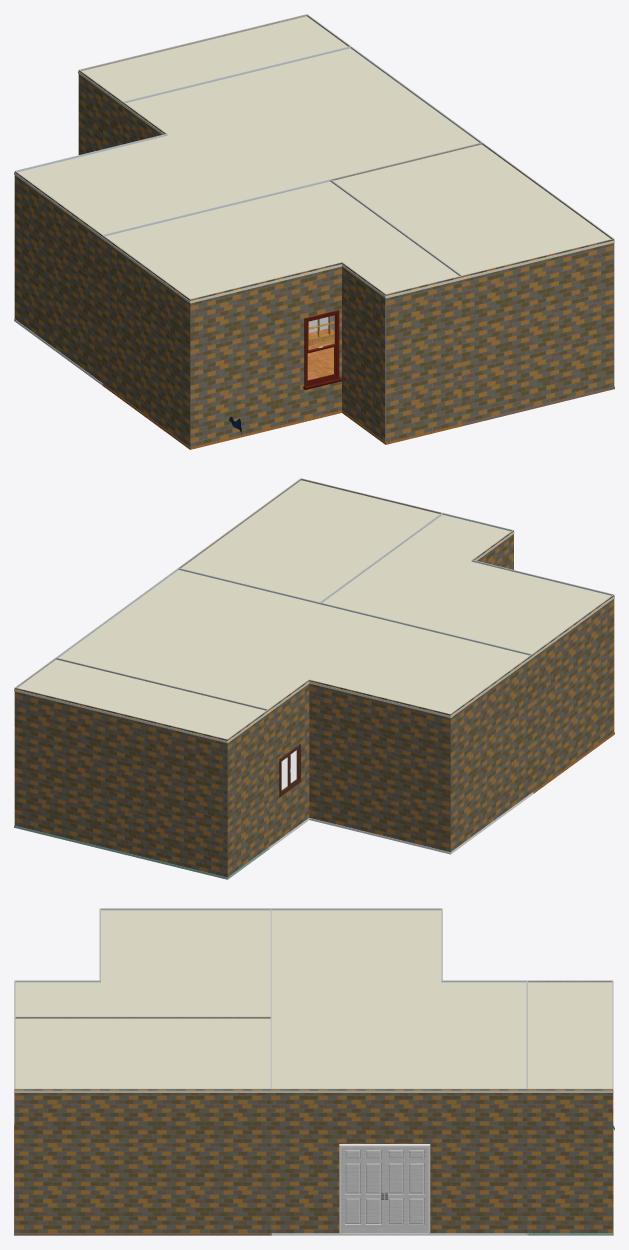
Rendered from ProcTHOR-Train-177.glb.
3 views of the same model, one above another, from view 1: azimuth 30°, elevation 25°; view 2: azimuth 150°, elevation 25°; view 3: azimuth 270°, elevation 25° (orthographic). The views are drawn at different scales.
Parts seen in each view (by area): view 1: Ceiling#room|6|c, Ceiling#room|4|c, WallInside#wall|exterior|0.00|12.58|3.59|12.58, WallInside#wall|exterior|5.39|10.78|8.98|10.78, Ceiling#room|5|c, WallInside#wall|exterior|8.98|3.59|8.98|7.19, WallInside#wall|exterior|8.98|7.19|8.98|10.78, WallInside#wall|exterior|3.59|12.58|5.39|12.58, Ceiling#room|7|c, WallInside#wall|exterior|5.39|10.78|5.39|12.58, WallInside#wall|exterior|5.39|0.00|5.39|1.80, Floor#room|4|f (+3 smaller); view 2: Ceiling#room|6|c, WallInside#wall|exterior|0.00|0.00|5.39|0.00, Ceiling#room|4|c, WallInside#wall|exterior|5.39|3.59|8.98|3.59, Ceiling#room|5|c, WallInside#wall|exterior|8.98|3.59|8.98|7.19, WallInside#wall|exterior|8.98|7.19|8.98|10.78, Ceiling#room|7|c, WallInside#wall|exterior|5.39|0.00|5.39|1.80, WallInside#wall|exterior|5.39|1.80|5.39|3.59, Floor#room|6|f, WallInside#wall|exterior|5.39|10.78|5.39|12.58 (+2 smaller); view 3: Ceiling#room|6|c, WallInside#wall|exterior|0.00|7.19|0.00|12.58, WallInside#wall|exterior|0.00|1.80|0.00|7.19, Ceiling#room|4|c, Ceiling#room|5|c, WallInside#wall|exterior|0.00|0.00|0.00|1.80, Ceiling#room|7|c, Doorway_Door_2b, Doorway_Door_2a, Doorway_Double_2, Floor#room|5|f, Floor#room|6|f (+3 smaller).
Part boxes in pixels (x1,y1,x2,y2): Ceiling#room|6|c: (14,48,479,239); Ceiling#room|4|c: (102,181,463,303); WallInside#wall|exterior|0.00|12.58|3.59|12.58: (461,239,614,423); WallInside#wall|exterior|5.39|10.78|8.98|10.78: (190,262,341,447); Ceiling#room|5|c: (333,144,614,279); WallInside#wall|exterior|8.98|3.59|8.98|7.19: (14,171,102,382); WallInside#wall|exterior|8.98|7.19|8.98|10.78: (102,235,190,446); WallInside#wall|exterior|3.59|12.58|5.39|12.58: (386,276,461,442); Ceiling#room|7|c: (78,16,347,105); WallInside#wall|exterior|5.39|10.78|5.39|12.58: (342,262,385,442); WallInside#wall|exterior|5.39|0.00|5.39|1.80: (78,70,122,154); Floor#room|4|f: (102,328,463,449); Ceiling#room|6|c: (59,570,533,717); WallInside#wall|exterior|0.00|0.00|5.39|0.00: (14,687,227,877); Ceiling#room|4|c: (322,514,614,657); WallInside#wall|exterior|5.39|3.59|8.98|3.59: (309,679,450,852); Ceiling#room|5|c: (181,480,439,602); WallInside#wall|exterior|8.98|3.59|8.98|7.19: (450,654,532,851); WallInside#wall|exterior|8.98|7.19|8.98|10.78: (532,594,614,792); Ceiling#room|7|c: (14,659,269,743); WallInside#wall|exterior|5.39|0.00|5.39|1.80: (227,709,268,876); WallInside#wall|exterior|5.39|1.80|5.39|3.59: (269,680,309,846); Floor#room|6|f: (269,750,533,854); WallInside#wall|exterior|5.39|10.78|5.39|12.58: (472,530,513,569); Ceiling#room|6|c: (270,910,528,1092); WallInside#wall|exterior|0.00|7.19|0.00|12.58: (14,1089,271,1233); WallInside#wall|exterior|0.00|1.80|0.00|7.19: (270,1089,527,1233); Ceiling#room|4|c: (14,910,271,1018); Ceiling#room|5|c: (14,1018,271,1092); WallInside#wall|exterior|0.00|0.00|0.00|1.80: (527,1089,613,1233); Ceiling#room|7|c: (526,982,613,1092); Doorway_Door_2b: (341,1147,384,1233); Doorway_Door_2a: (385,1147,428,1233); Doorway_Double_2: (339,1144,430,1234); Floor#room|5|f: (14,1161,271,1235); Floor#room|6|f: (270,1233,528,1235).
Size of what is drawn, in the model's own units: 9.08 by 3.4 by 12.64.
258 materials, 105 textured.
